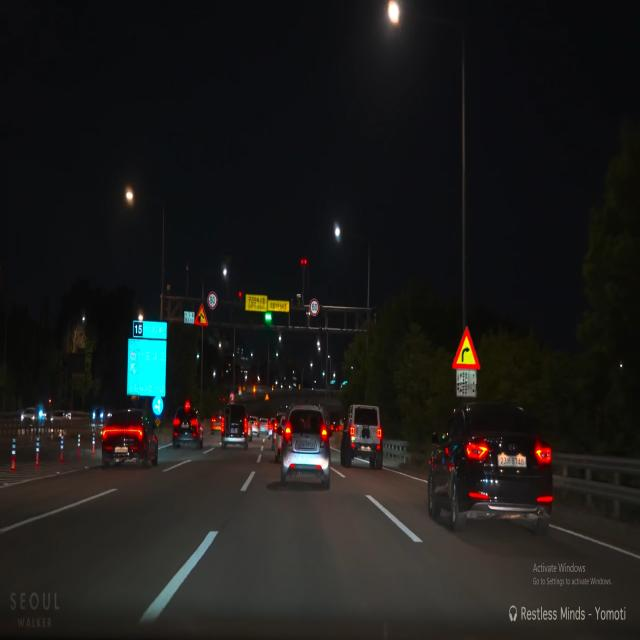headlights: (90, 407, 106, 424)
